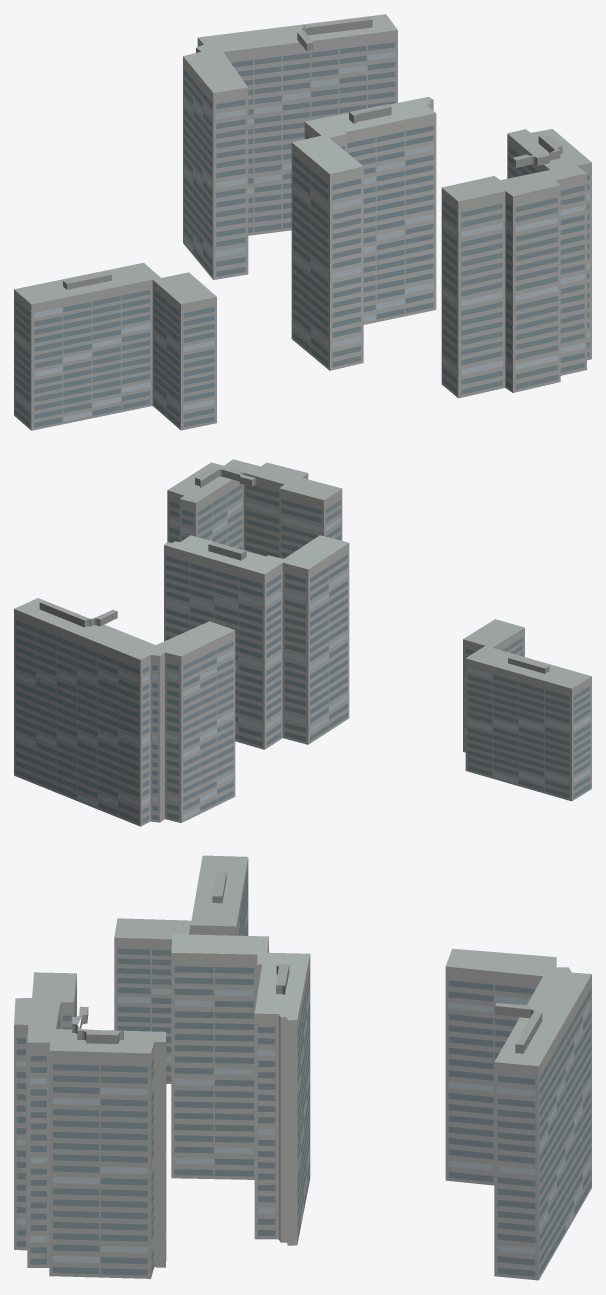
Rendered from apt-a15876401.glb.
3 renders of one model, top to bottom at view 1: azimuth 30°, elevation 25°; view 2: azimuth 150°, elevation 25°; view 3: azimuth 270°, elevation 25°, orthographic. The views are drawn at different scales.
Visible parts, largest first — view 1: apt-a15876401; view 2: apt-a15876401; view 3: apt-a15876401.
Part boxes in pixels (x1,y1,x2,y2): apt-a15876401: [14, 14, 591, 430]; apt-a15876401: [14, 459, 591, 826]; apt-a15876401: [14, 855, 591, 1280].
Size of the model in its own units: 163 by 63.4 by 142.
